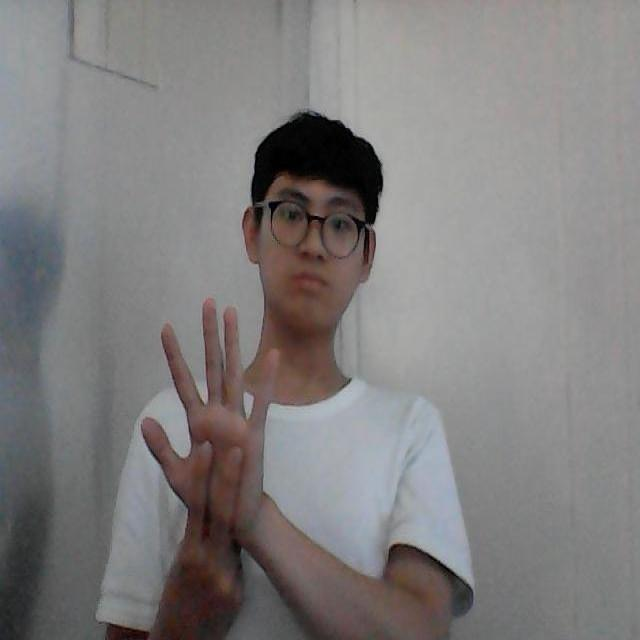N: (138, 292, 290, 586)
